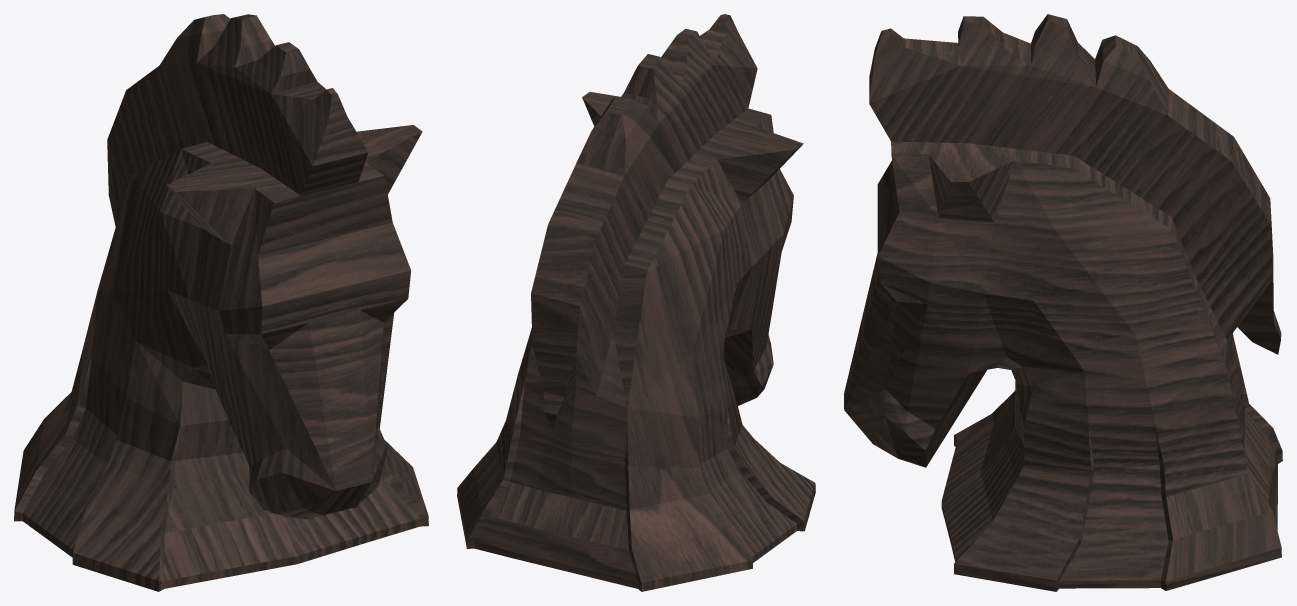
Rendered from dark-hallacirya-horse.glb.
3 views of the same model, side by side, from view 1: azimuth 30°, elevation 25°; view 2: azimuth 150°, elevation 25°; view 3: azimuth 270°, elevation 25° (orthographic). The views are drawn at different scales.
Parts seen in each view (by area): view 1: horse; view 2: horse; view 3: horse.
Part boxes in pixels (<box>): horse: <box>14,14,428,591</box>; horse: <box>457,14,815,591</box>; horse: <box>844,14,1282,591</box>.
Size of the model in its own units: 1.88 by 2.64 by 2.13.
Materials: 1 (1 with a texture image).
